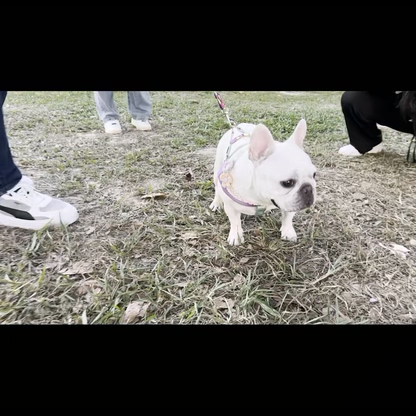bulldog: (207, 115, 321, 248)
